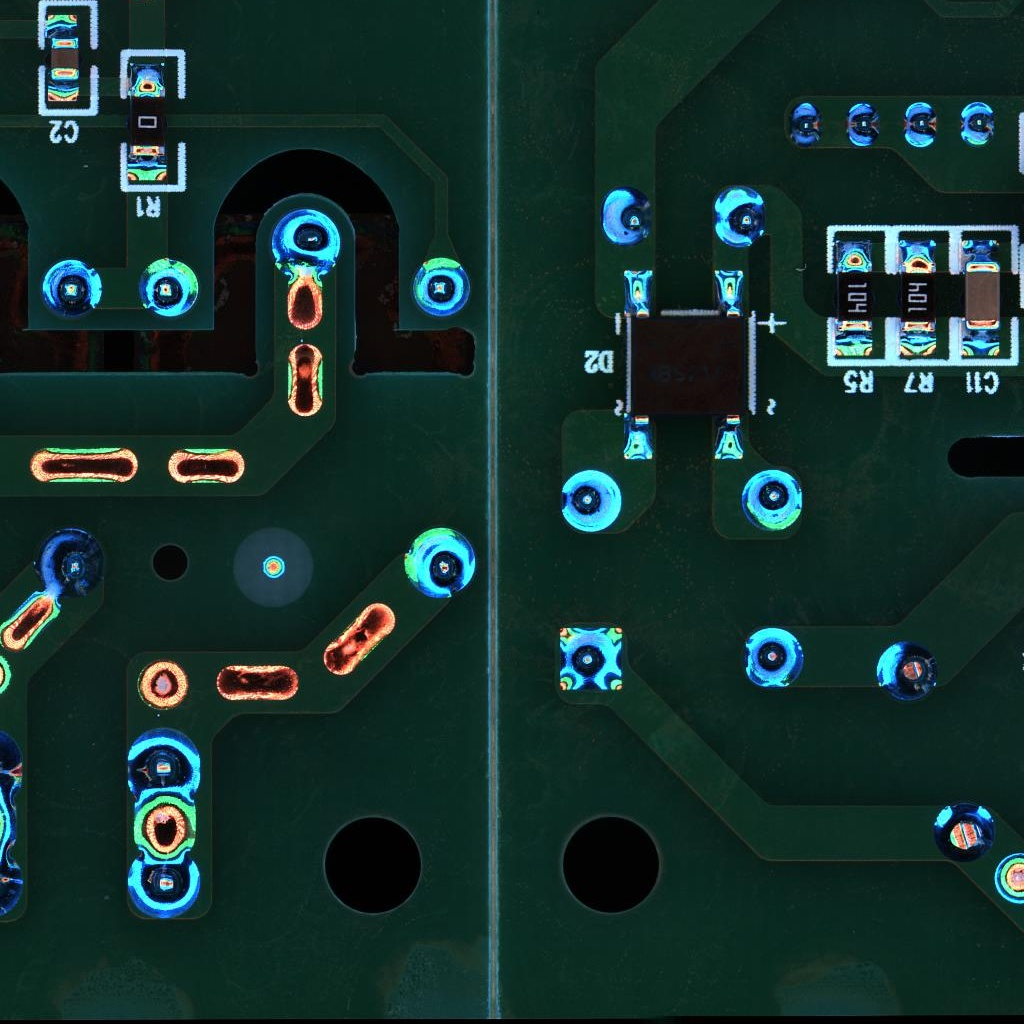spot: (120, 724, 203, 802), (401, 525, 478, 600), (32, 526, 110, 595), (271, 208, 343, 282), (555, 624, 625, 695), (126, 856, 203, 920), (737, 467, 806, 536), (561, 466, 625, 534), (742, 626, 808, 691), (875, 639, 940, 704), (40, 256, 103, 319), (410, 256, 473, 318), (932, 801, 994, 863), (140, 256, 201, 318), (713, 185, 766, 251), (601, 186, 653, 250), (901, 99, 940, 149), (845, 99, 881, 151), (786, 99, 822, 151), (959, 99, 997, 148), (993, 851, 1024, 904)
